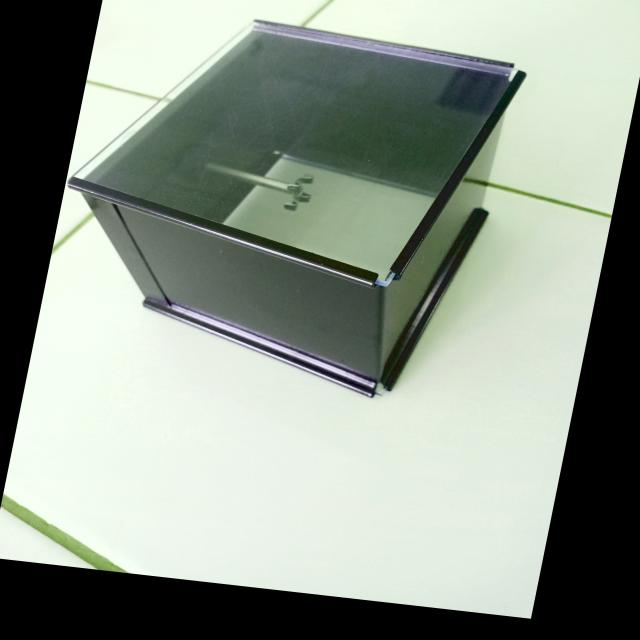Electroscope: (31, 0, 542, 409)
